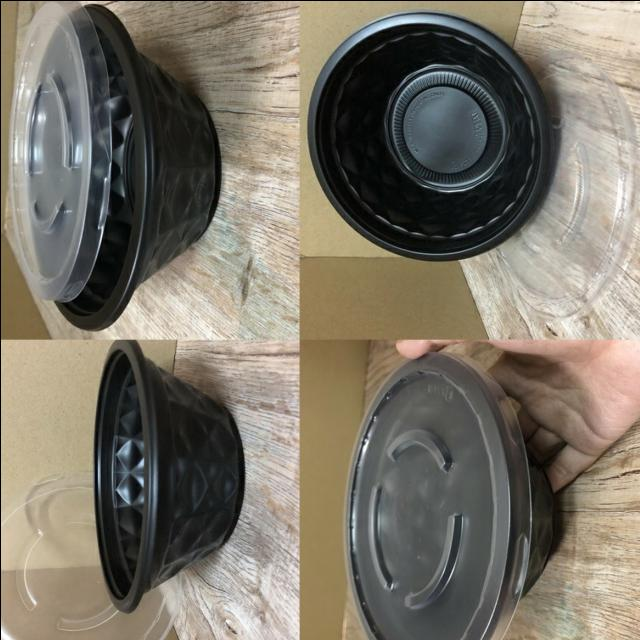plastik: (9, 0, 220, 330), (345, 352, 554, 640), (308, 13, 552, 259), (93, 340, 244, 612), (496, 50, 636, 322), (0, 473, 179, 640)
